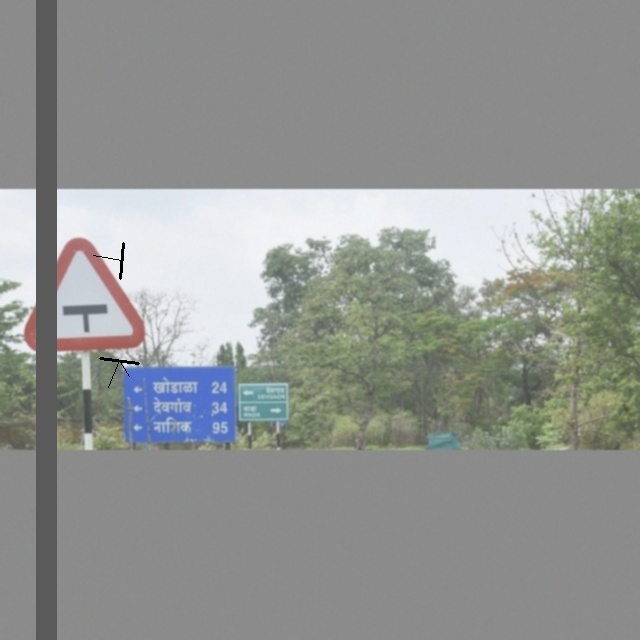T_Intersection: (22, 236, 151, 363)
